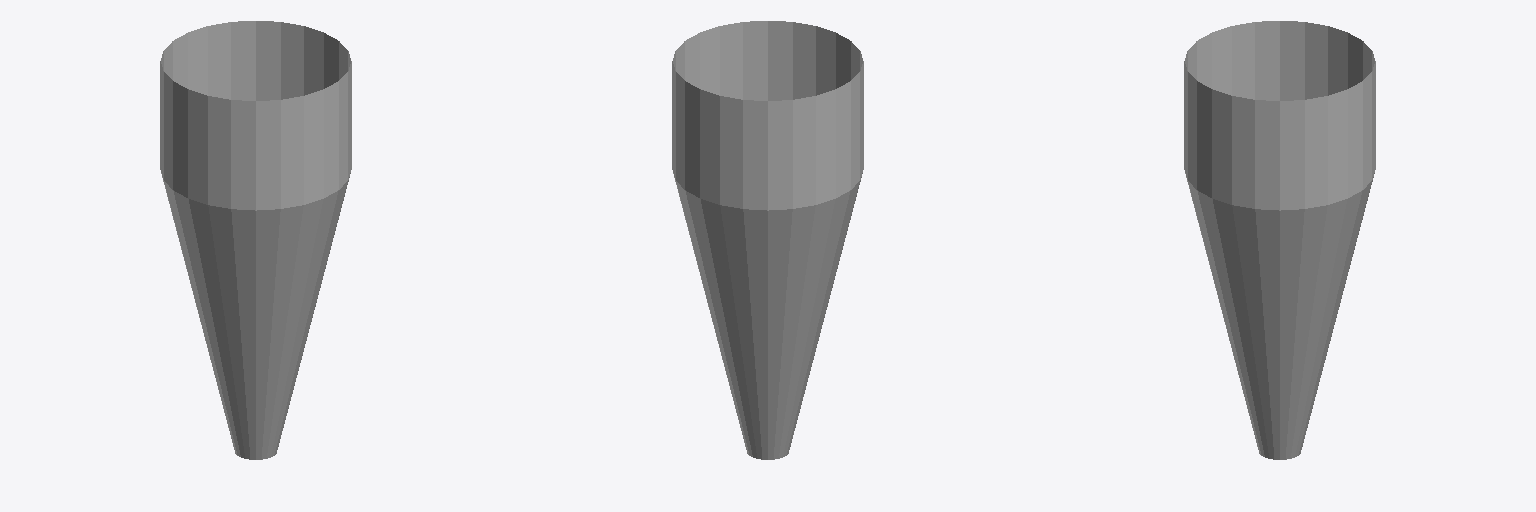
Rendered from original-15.obj.
3 renders of one model, left to right at view 1: azimuth 30°, elevation 25°; view 2: azimuth 150°, elevation 25°; view 3: azimuth 270°, elevation 25°, orthographic.
Parts seen in each view (by area): view 1: 3dw.59a07a01d7c3fdb03c1d9add3a87bd2d/Model/mesh1/mesh1-geometry/; view 2: 3dw.59a07a01d7c3fdb03c1d9add3a87bd2d/Model/mesh1/mesh1-geometry/; view 3: 3dw.59a07a01d7c3fdb03c1d9add3a87bd2d/Model/mesh1/mesh1-geometry/.
Part boxes in pixels (bbox=[...]): 3dw.59a07a01d7c3fdb03c1d9add3a87bd2d/Model/mesh1/mesh1-geometry/: bbox=[160, 21, 351, 459]; 3dw.59a07a01d7c3fdb03c1d9add3a87bd2d/Model/mesh1/mesh1-geometry/: bbox=[672, 21, 863, 459]; 3dw.59a07a01d7c3fdb03c1d9add3a87bd2d/Model/mesh1/mesh1-geometry/: bbox=[1184, 21, 1375, 459].
Bounding box in the file's own units: 0.0985 × 0.2219 × 0.0985.